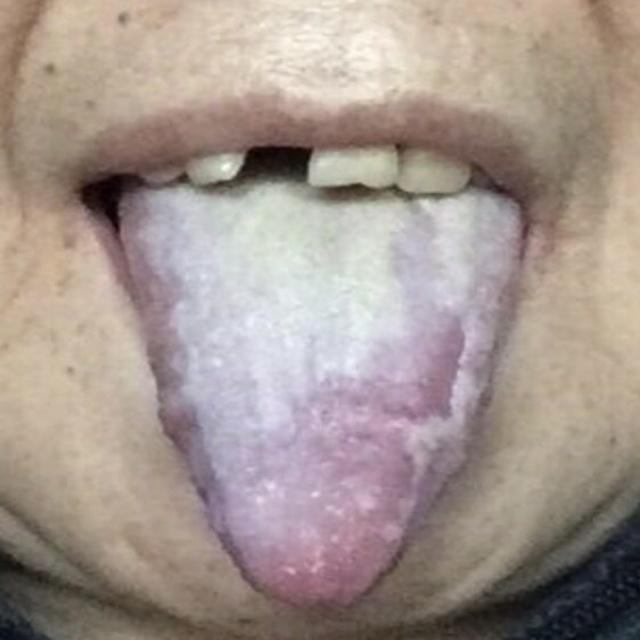baitaishe: (115, 165, 532, 615)
chihenshe: (142, 296, 232, 566)
